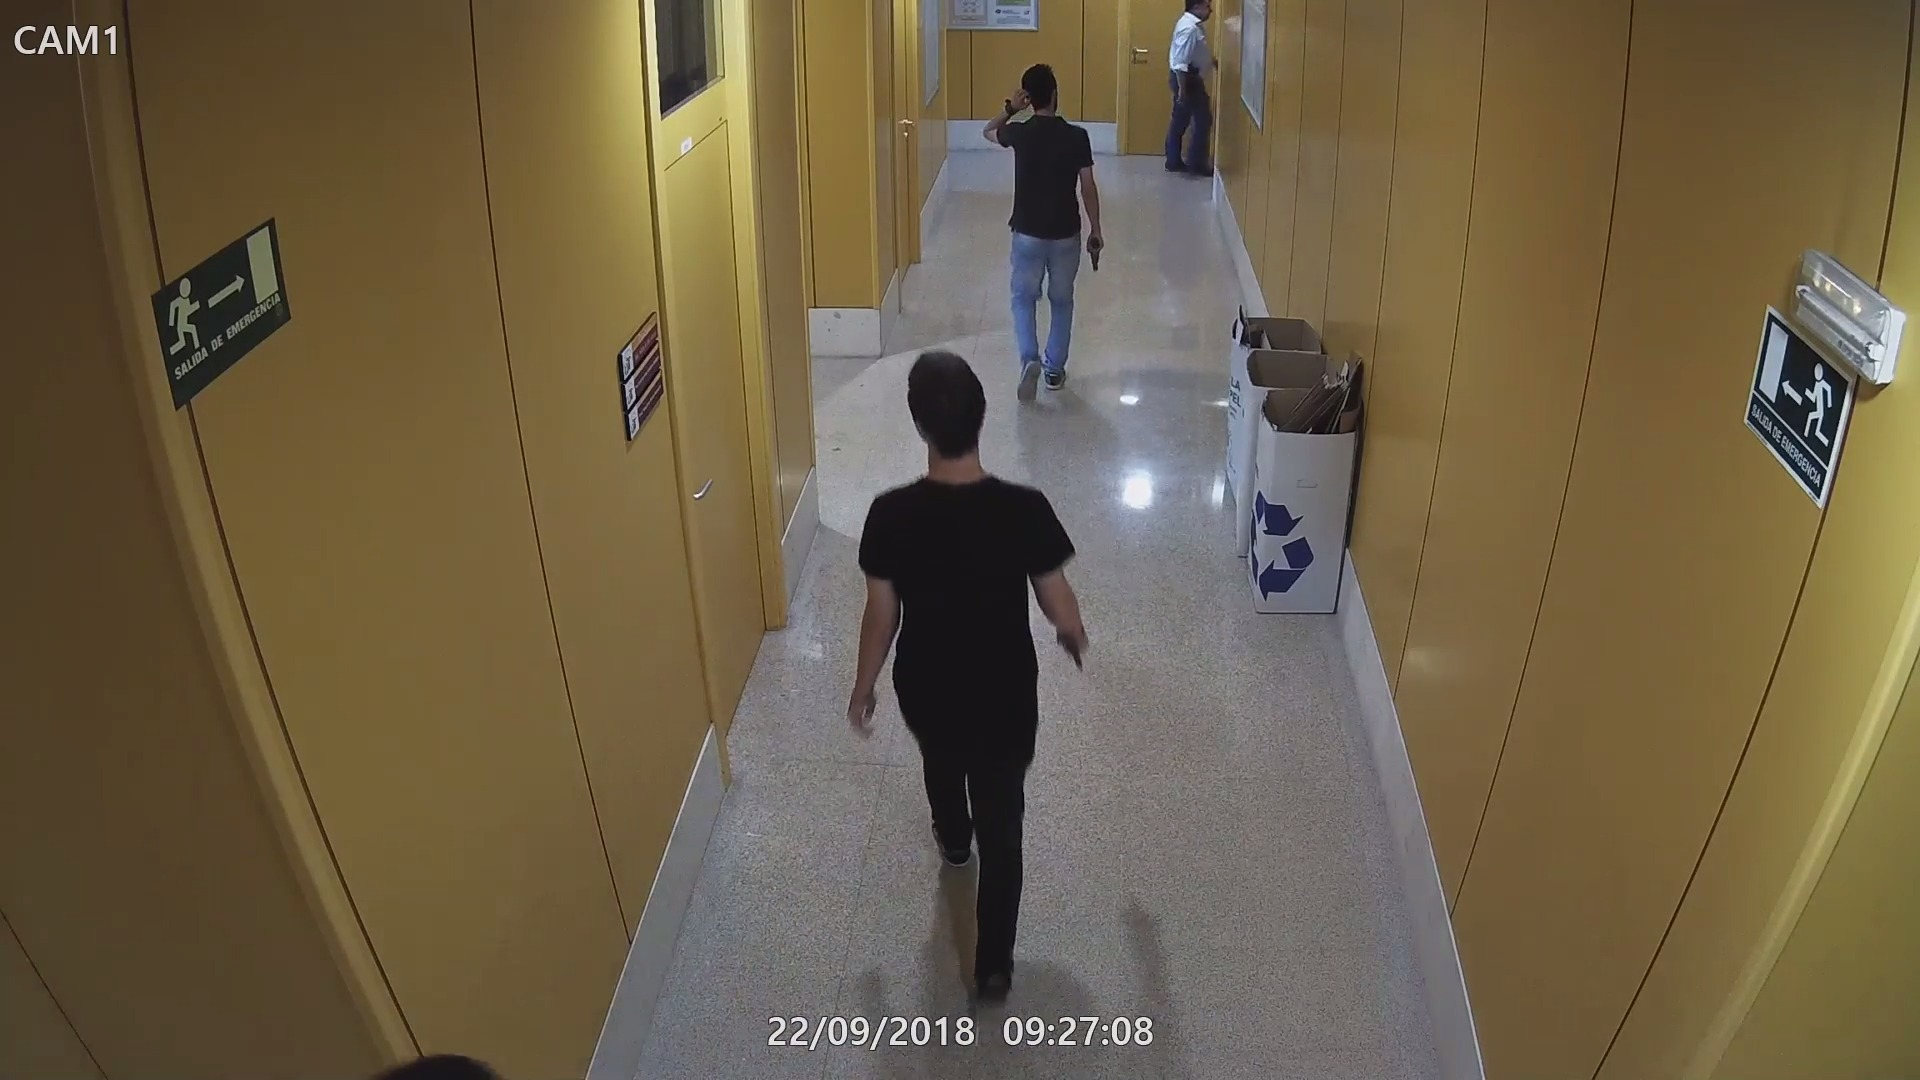pistol: (1054, 622, 1091, 673), (1083, 225, 1108, 273)
